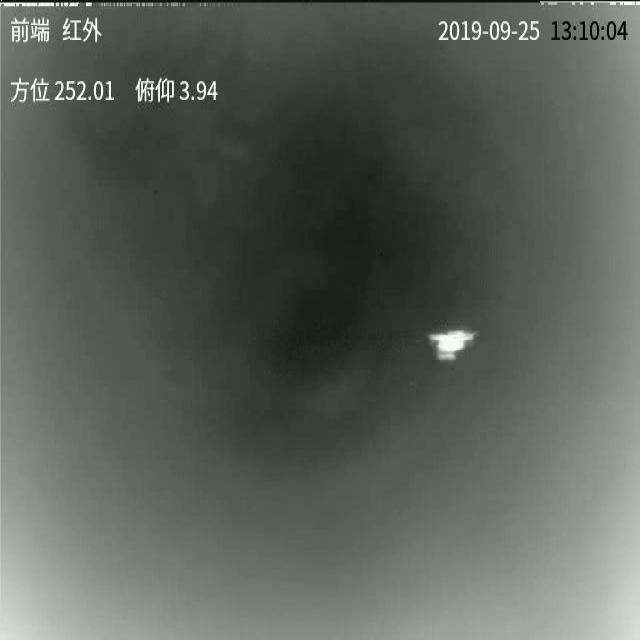drone: (429, 328, 478, 364)
